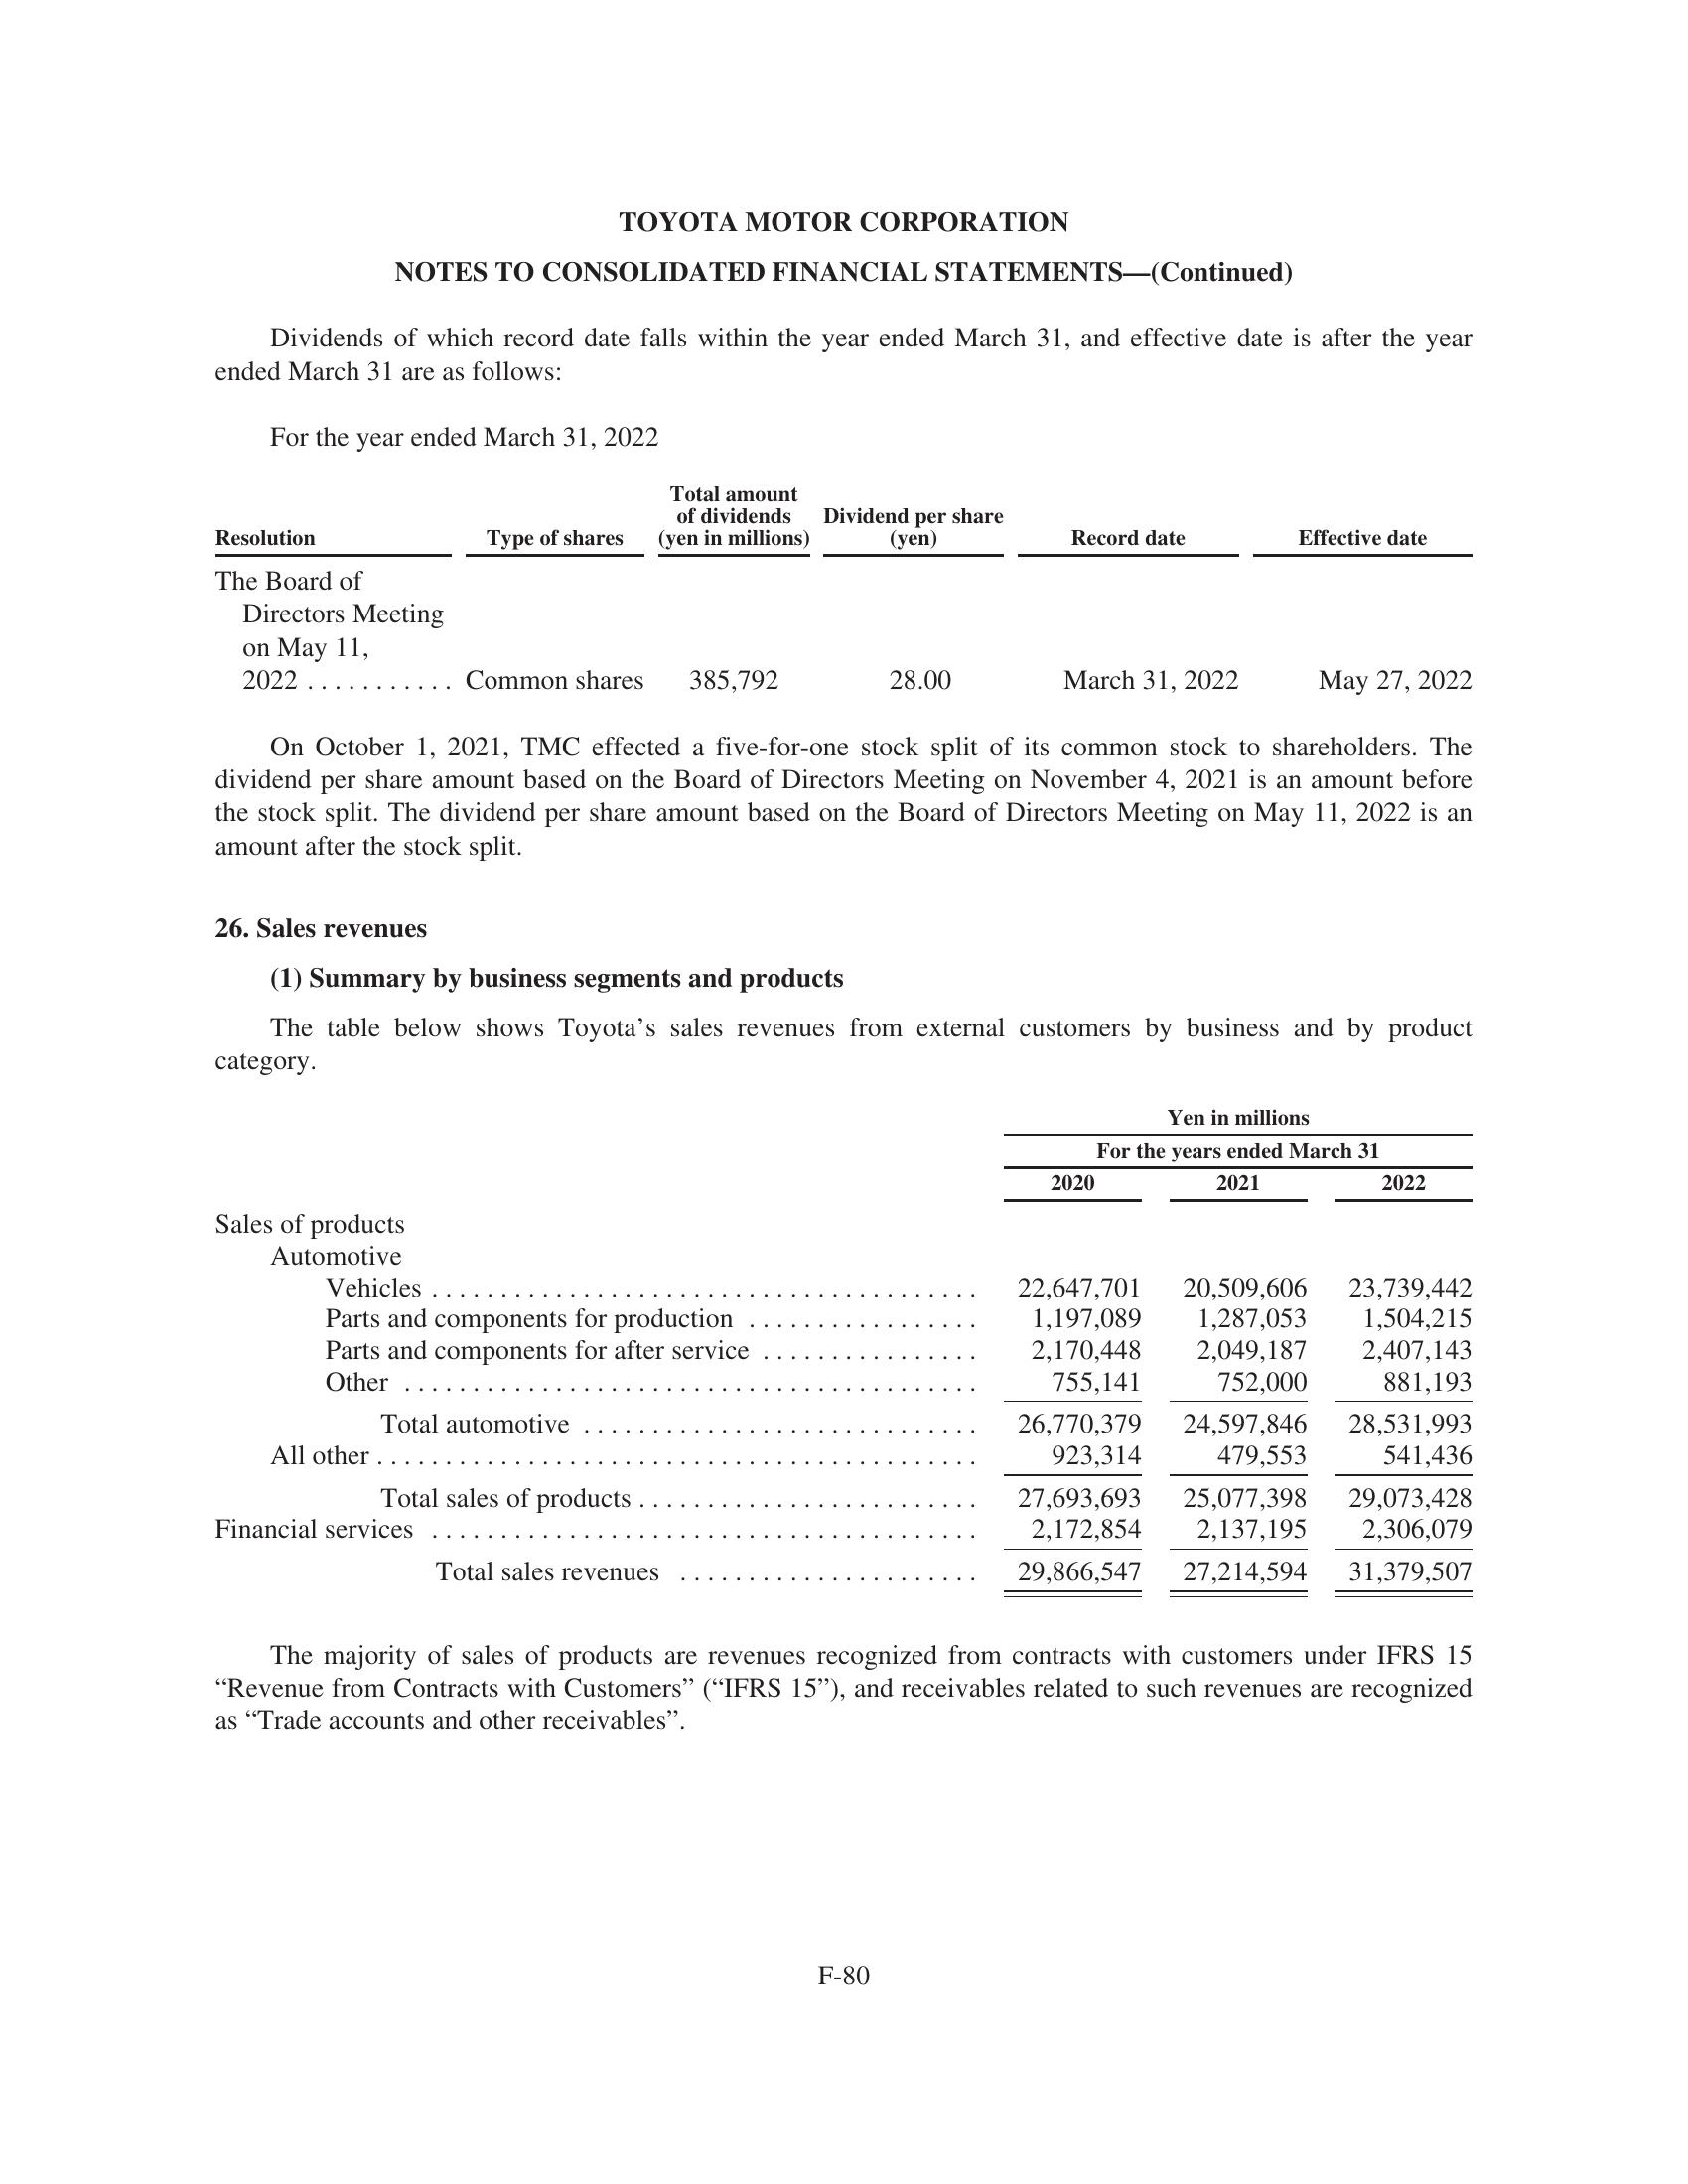Footer: (0, 1946, 1688, 2184)
Header: (0, 0, 1688, 170)
Table: (117, 1097, 1509, 1613), (117, 468, 1509, 698)
